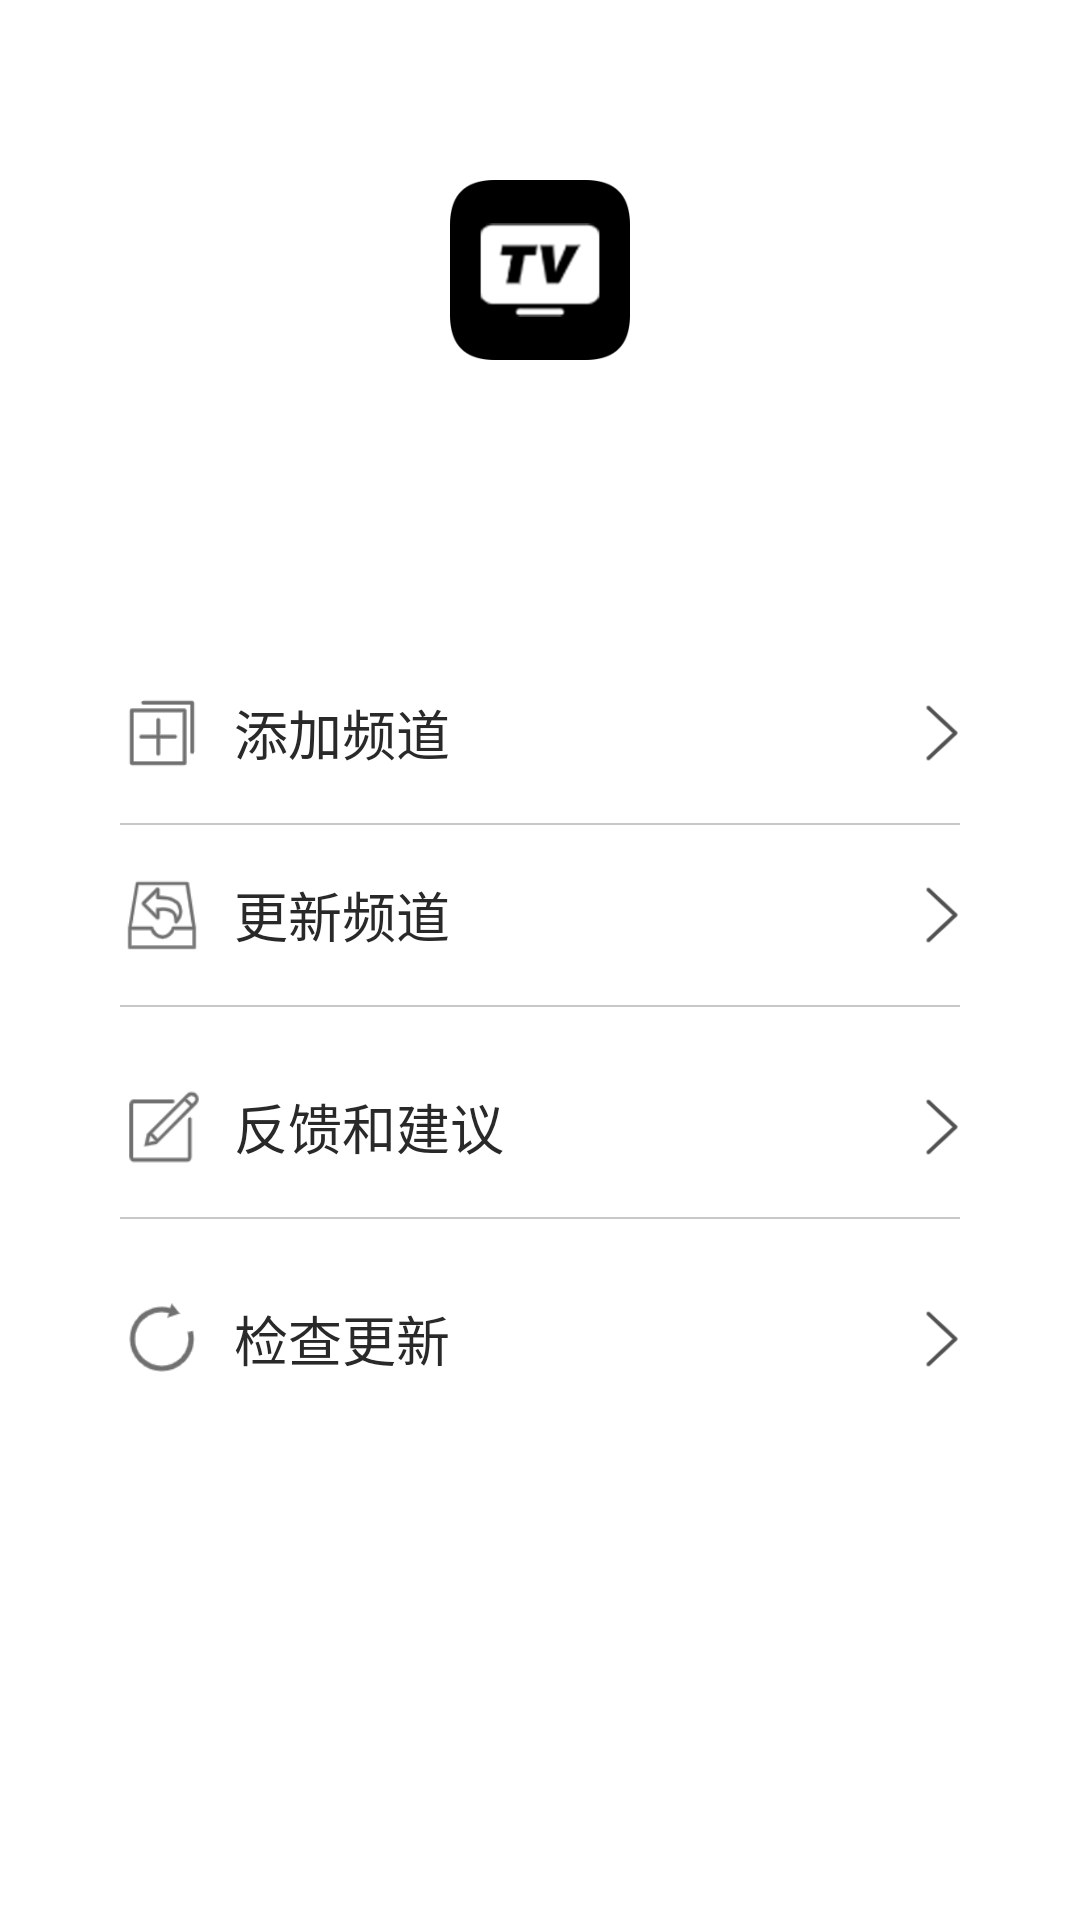

Named icons in this screenshot (1080w x 1920h) and their bounding boxes, BBox(x1, y1, x2, y2):
feedback: BBox(129, 1091, 199, 1163)
